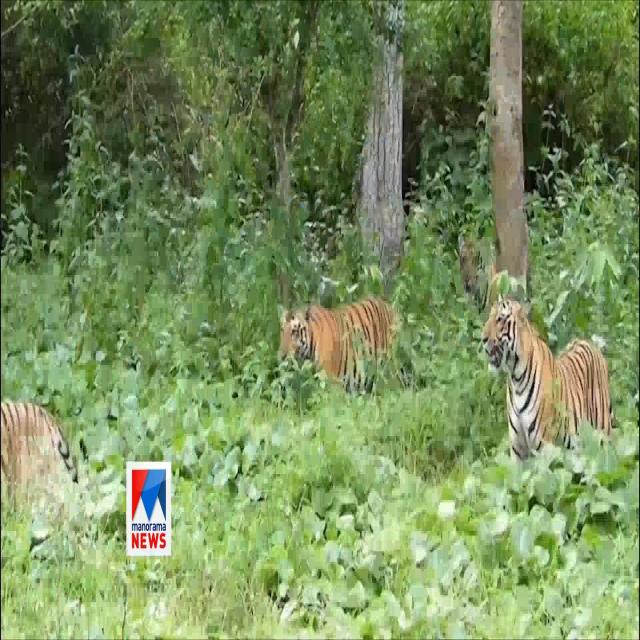TIGER: (480, 295, 620, 454), (265, 291, 406, 397)
